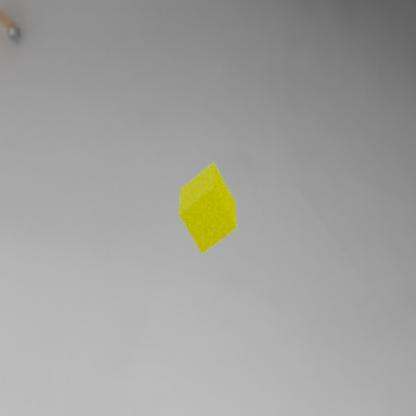yellow_cube: (178, 161, 236, 253)
